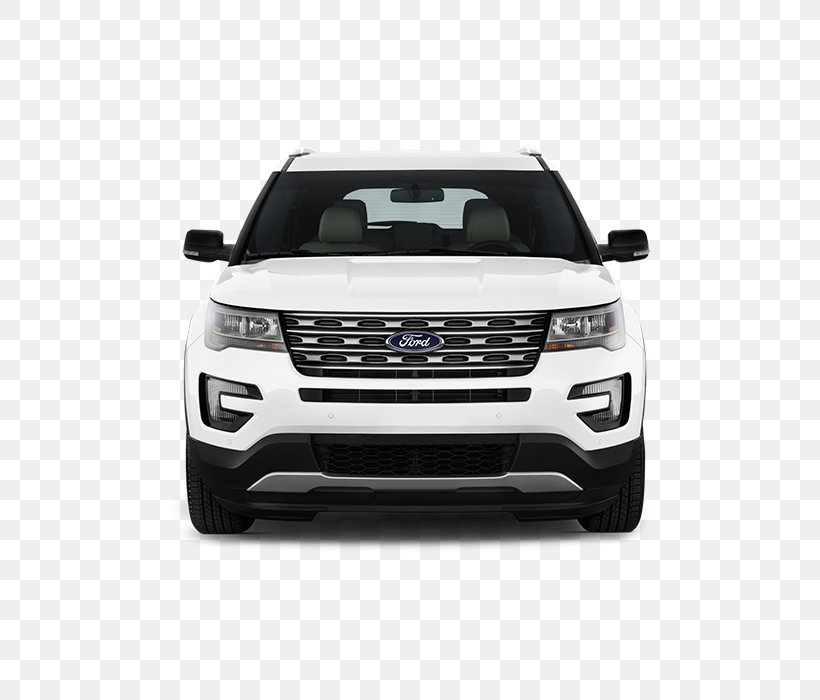Ford Explorer: (183, 148, 646, 533)
